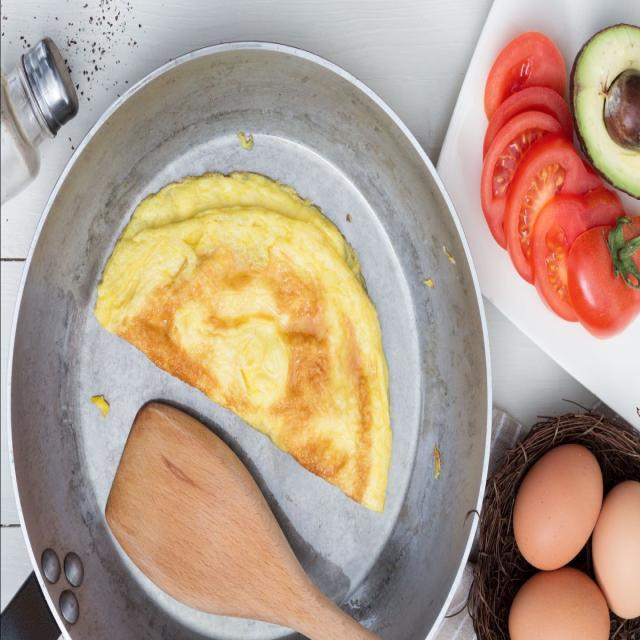telur_ayam_dadar: (93, 171, 394, 515)
